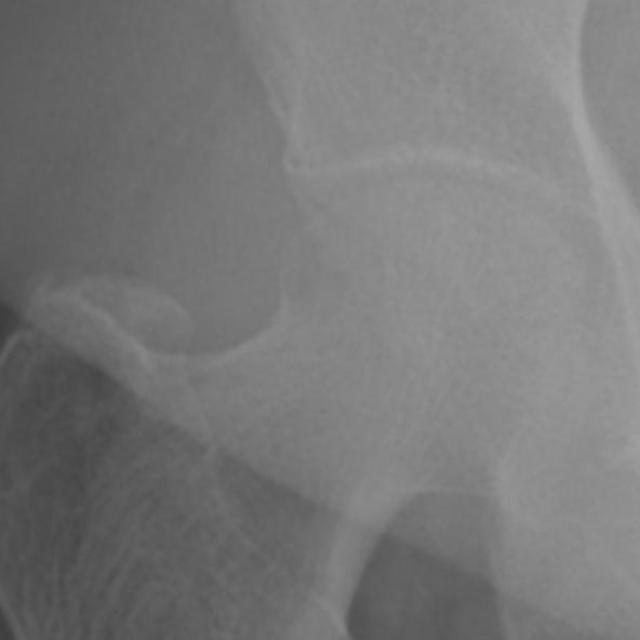Fitted_femural_head: (326, 180, 432, 326)
